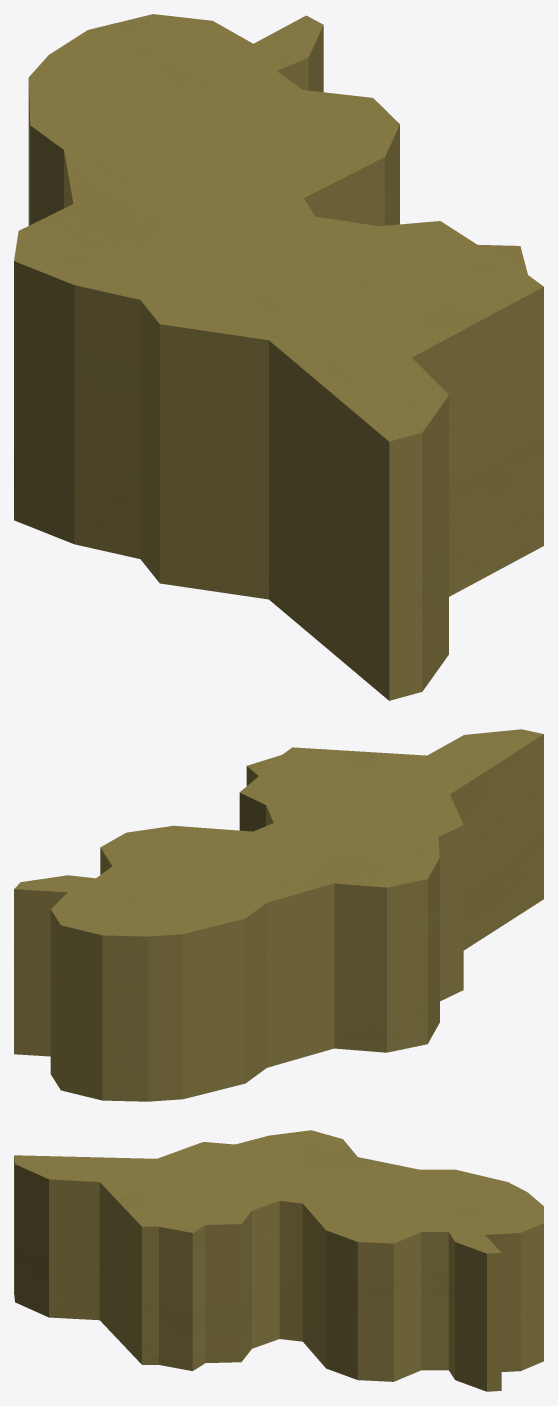
The model's file is tunis.DAE.
The picture shows the model from 3 angles, top to bottom: view 1: azimuth 30°, elevation 25°; view 2: azimuth 150°, elevation 25°; view 3: azimuth 270°, elevation 25°; orthographic projection. The views are drawn at different scales.
Visible parts, largest first — view 1: Tunis; view 2: Tunis; view 3: Tunis.
Boxes of the visible parts, bbox=[...] form: Tunis: bbox=[14, 14, 543, 700]; Tunis: bbox=[14, 729, 543, 1101]; Tunis: bbox=[14, 1130, 543, 1391].
Size of the model in its own units: 47.87 by 86.91 by 25.
1 material, 1 textured.
